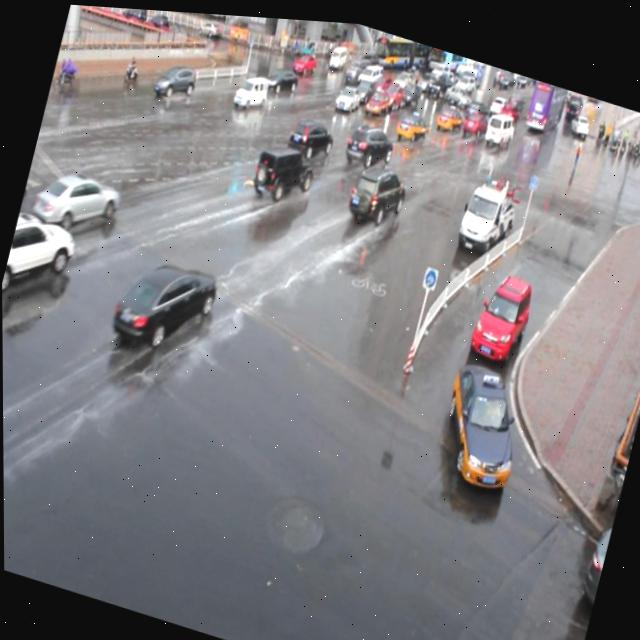bus: (452, 165, 519, 252)
car: (429, 348, 531, 488), (106, 243, 220, 361), (466, 259, 536, 360), (34, 162, 123, 241), (2, 209, 79, 296), (568, 508, 613, 623), (248, 133, 317, 206), (343, 152, 409, 226), (342, 111, 396, 167), (283, 106, 336, 160), (151, 55, 199, 102), (392, 100, 431, 141), (262, 58, 299, 94), (433, 94, 465, 127), (459, 100, 490, 133), (332, 77, 362, 110), (363, 81, 390, 114), (291, 44, 318, 74), (351, 70, 376, 100), (380, 75, 405, 105), (368, 65, 392, 94)
truck: (231, 65, 271, 109), (481, 101, 516, 143)
